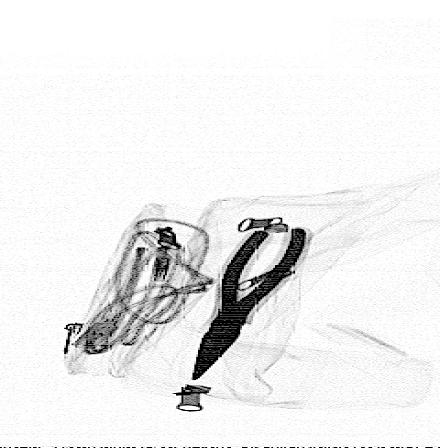Pliers: (190, 226, 316, 382)
